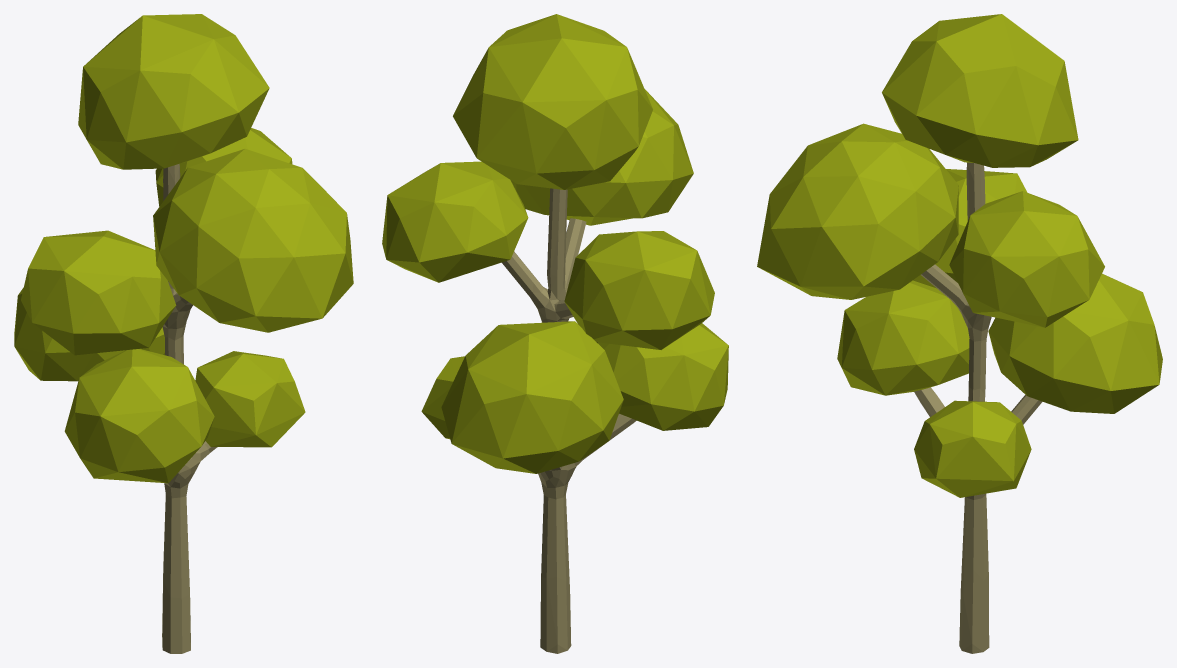
Rendered from birch_3.glb.
3 views of the same model, side by side, from view 1: azimuth 30°, elevation 25°; view 2: azimuth 150°, elevation 25°; view 3: azimuth 270°, elevation 25° (orthographic).
Parts seen in each view (by area): view 1: Plane.001; view 2: Plane.001; view 3: Plane.001.
Boxes of the visible parts, x1,y1,x2,y2 form: Plane.001: [14, 14, 353, 653]; Plane.001: [382, 14, 728, 653]; Plane.001: [757, 14, 1162, 653].
Size of the model in its own units: 4.49 by 9.36 by 5.52.
